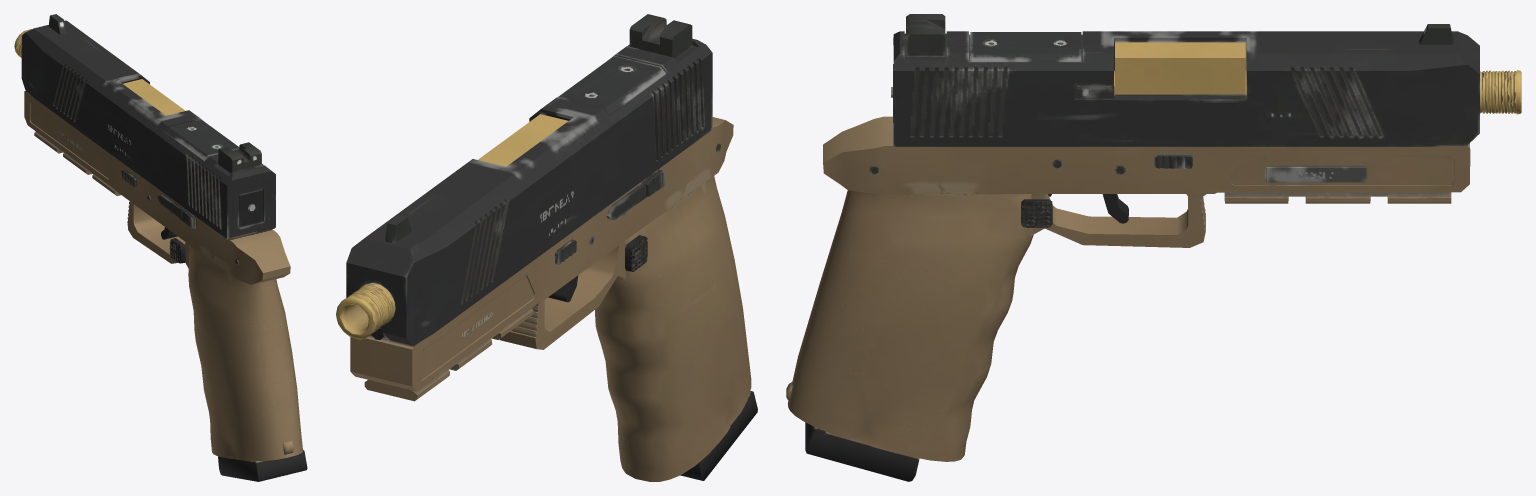
File: pistola_9mm_tan_leve.glb
3 views of the same model, side by side, from view 1: azimuth 30°, elevation 25°; view 2: azimuth 150°, elevation 25°; view 3: azimuth 270°, elevation 25° (orthographic). The views are drawn at different scales.
Parts seen in each view (by area): view 1: pistola_9mm_tan_leve; view 2: pistola_9mm_tan_leve; view 3: pistola_9mm_tan_leve.
Boxes of the visible parts, box(x1,y1,x2,y2) form: pistola_9mm_tan_leve: box(14, 14, 307, 481); pistola_9mm_tan_leve: box(336, 14, 757, 481); pistola_9mm_tan_leve: box(786, 14, 1521, 481).
Bounding box in the file's own units: 0.031 × 0.1545 × 0.2332.
1 material, 1 textured.
